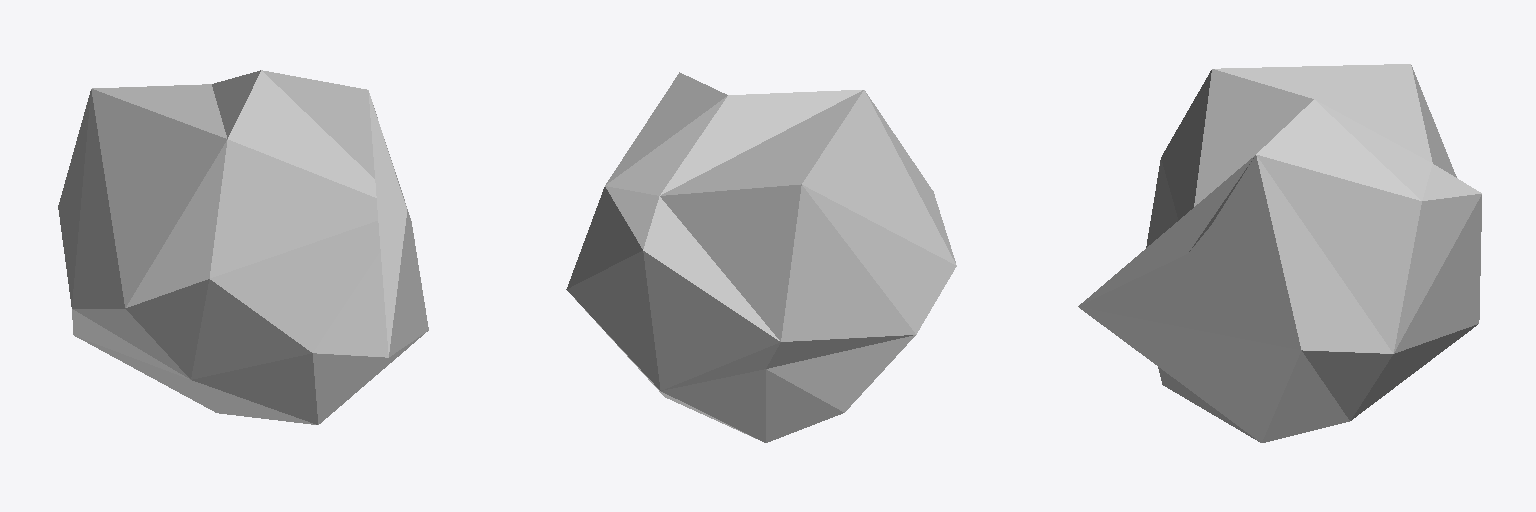
File: rock3.obj
3 renders of one model, left to right at view 1: azimuth 30°, elevation 25°; view 2: azimuth 150°, elevation 25°; view 3: azimuth 270°, elevation 25°, orthographic.
Visible parts, largest first — view 1: Cube2_sep50; view 2: Cube2_sep50; view 3: Cube2_sep50.
Part boxes in pixels (x1,y1,x2,y2): Cube2_sep50: (58,70,428,424); Cube2_sep50: (566,72,956,442); Cube2_sep50: (1078,64,1481,442).
Bounding box in the file's own units: 0.4068 × 0.3921 × 0.4287.